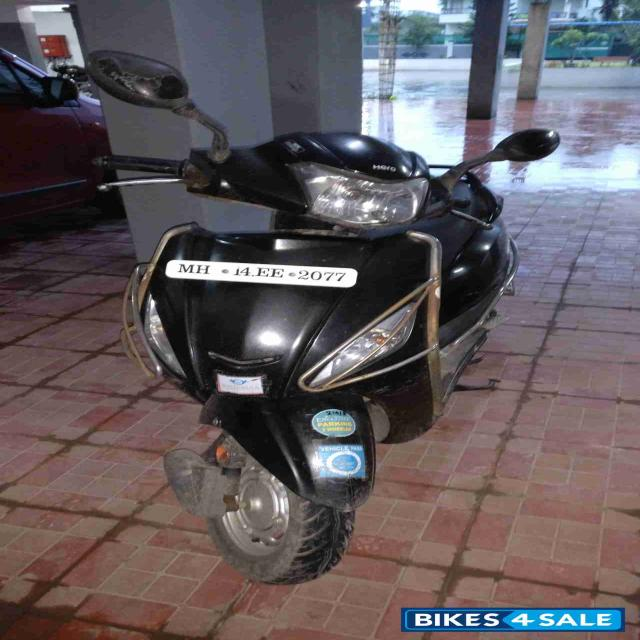number plate: (163, 259, 359, 288)
